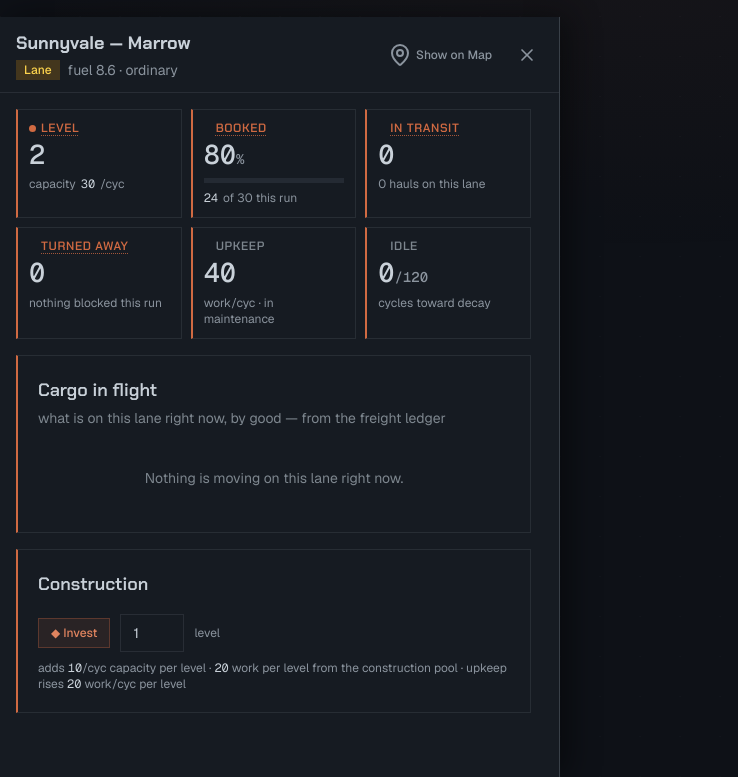
Test: LanePanel › shows a rejected order's own reason instead of dropping it silently
Click the button "◆ Invest" at (74, 633), box [38,618,110,648]
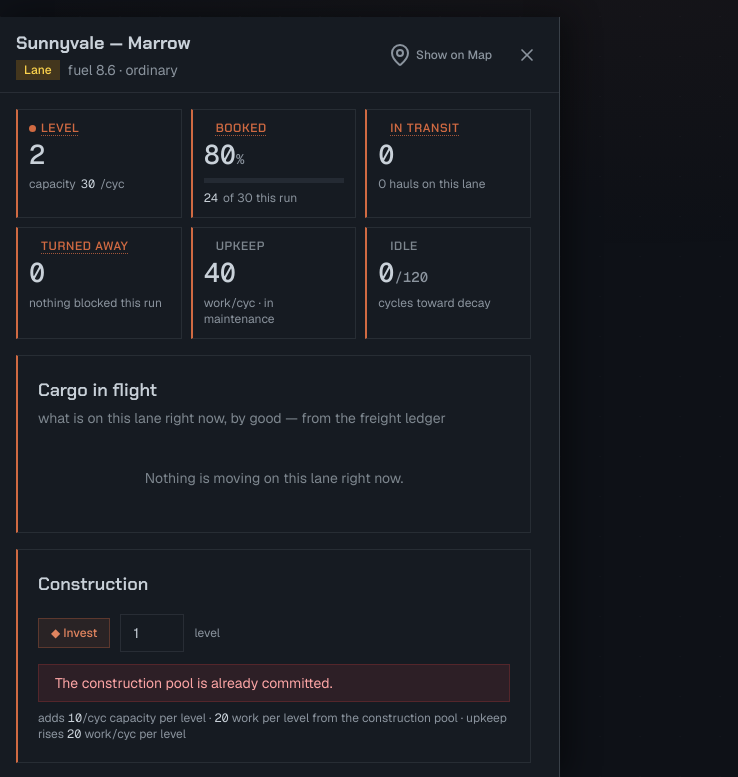
Expected: the text "The construction pool is already committed." is shown, [38,664,510,702]
